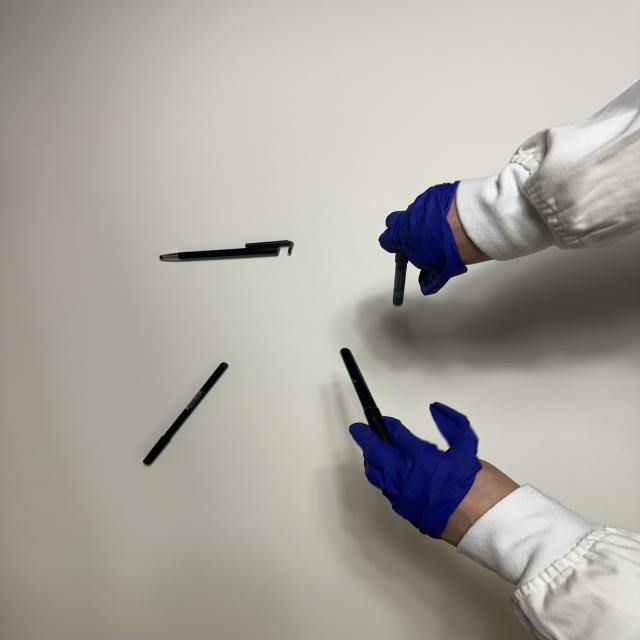glove_partial: (344, 398, 526, 548), (381, 181, 496, 298)
